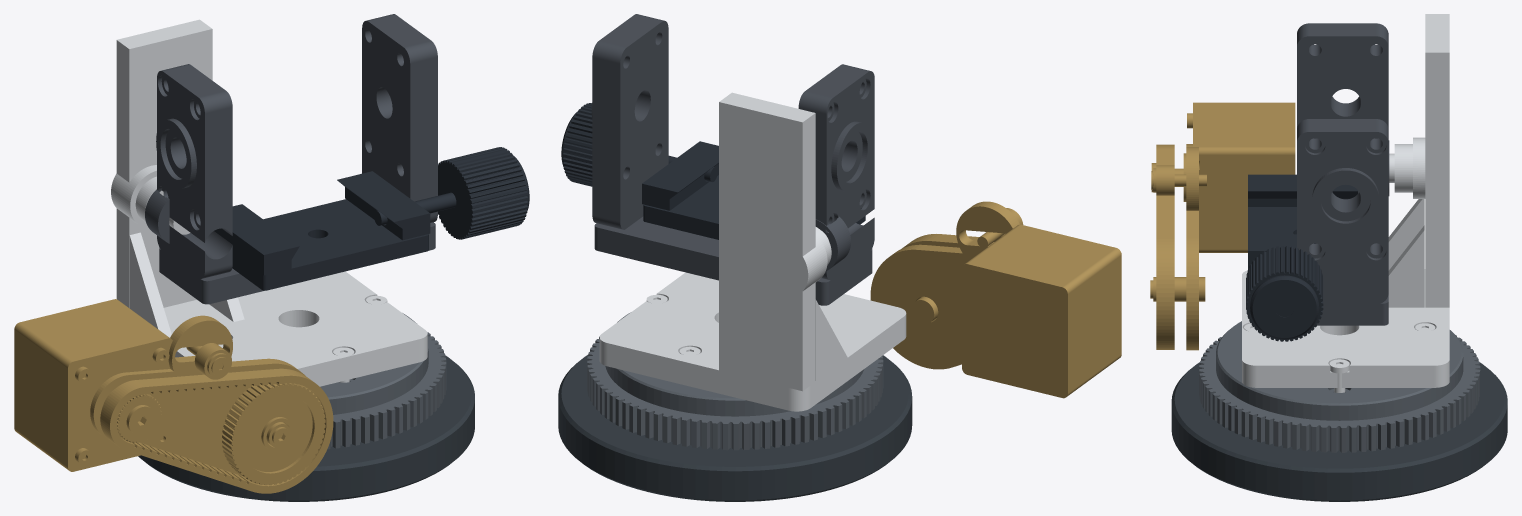
File: cad_v2_19.glb
The picture shows the model from 3 angles, left to right: view 1: azimuth 30°, elevation 25°; view 2: azimuth 150°, elevation 25°; view 3: azimuth 270°, elevation 25°; orthographic projection. The views are drawn at different scales.
Parts seen in each view (by area): view 1: 05_Left_Brass_Tooth_Drive_Cassette, 03_Silver_L_Pitch_Bracket, 04_Black_U_Roll_Cradle, 06_Black_Arca_Dovetail_Clamp, 01_Black_Tripod_Base, 02_Black_Yaw_Gear_Turntable; view 2: 03_Silver_L_Pitch_Bracket, 05_Left_Brass_Tooth_Drive_Cassette, 04_Black_U_Roll_Cradle, 01_Black_Tripod_Base, 02_Black_Yaw_Gear_Turntable, 06_Black_Arca_Dovetail_Clamp; view 3: 03_Silver_L_Pitch_Bracket, 04_Black_U_Roll_Cradle, 01_Black_Tripod_Base, 05_Left_Brass_Tooth_Drive_Cassette, 02_Black_Yaw_Gear_Turntable, 06_Black_Arca_Dovetail_Clamp.
Boxes of the visible parts, left/top/right/bottom form: 05_Left_Brass_Tooth_Drive_Cassette: left=14, top=299, right=333, bottom=493; 03_Silver_L_Pitch_Bracket: left=111, top=19, right=427, bottom=386; 04_Black_U_Roll_Cradle: left=145, top=14, right=437, bottom=304; 06_Black_Arca_Dovetail_Clamp: left=214, top=147, right=529, bottom=290; 01_Black_Tripod_Base: left=138, top=355, right=474, bottom=501; 02_Black_Yaw_Gear_Turntable: left=320, top=313, right=446, bottom=449; 03_Silver_L_Pitch_Bracket: left=599, top=92, right=906, bottom=411; 05_Left_Brass_Tooth_Drive_Cassette: left=870, top=201, right=1121, bottom=398; 04_Black_U_Roll_Cradle: left=591, top=14, right=874, bottom=305; 01_Black_Tripod_Base: left=558, top=355, right=912, bottom=501; 02_Black_Yaw_Gear_Turntable: left=587, top=312, right=883, bottom=450; 06_Black_Arca_Dovetail_Clamp: left=561, top=103, right=865, bottom=239; 03_Silver_L_Pitch_Bracket: left=1242, top=14, right=1449, bottom=392; 04_Black_U_Roll_Cradle: left=1297, top=23, right=1389, bottom=325; 01_Black_Tripod_Base: left=1171, top=362, right=1507, bottom=501; 05_Left_Brass_Tooth_Drive_Cassette: left=1150, top=102, right=1295, bottom=350; 02_Black_Yaw_Gear_Turntable: left=1199, top=321, right=1480, bottom=452; 06_Black_Arca_Dovetail_Clamp: left=1246, top=174, right=1357, bottom=341.
Bounding box in the file's own units: 0.1777 × 0.13 × 0.117.
